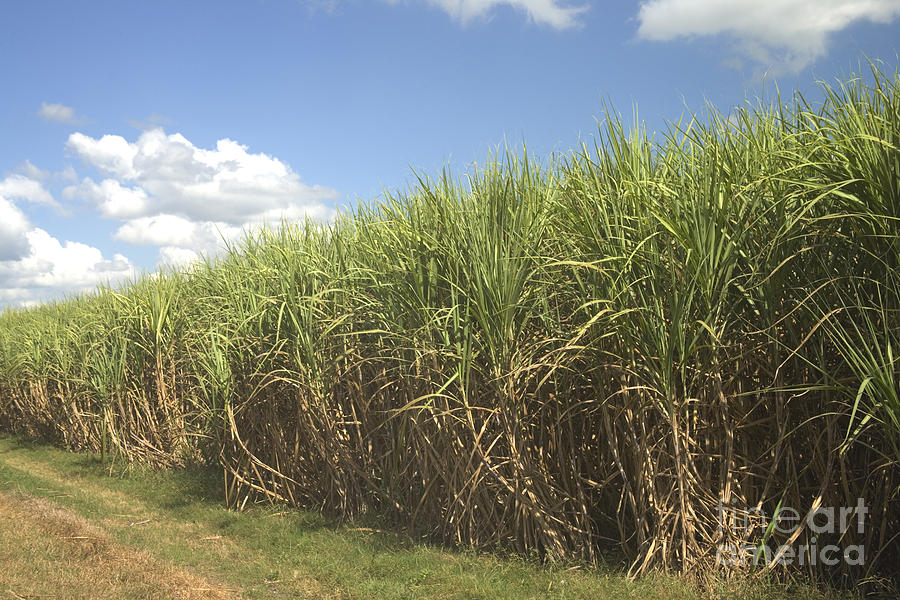sugarcane: (202, 106, 732, 518), (627, 59, 900, 598), (12, 231, 422, 438)
